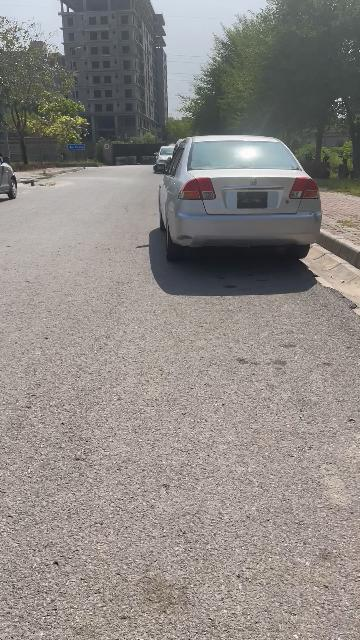plate: (238, 188, 268, 210)
